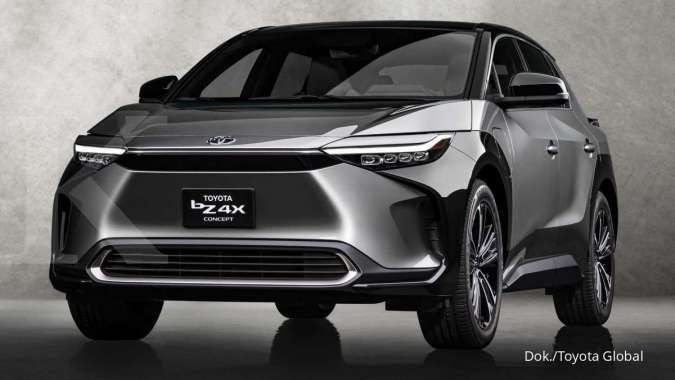mobil: (47, 16, 629, 349)
